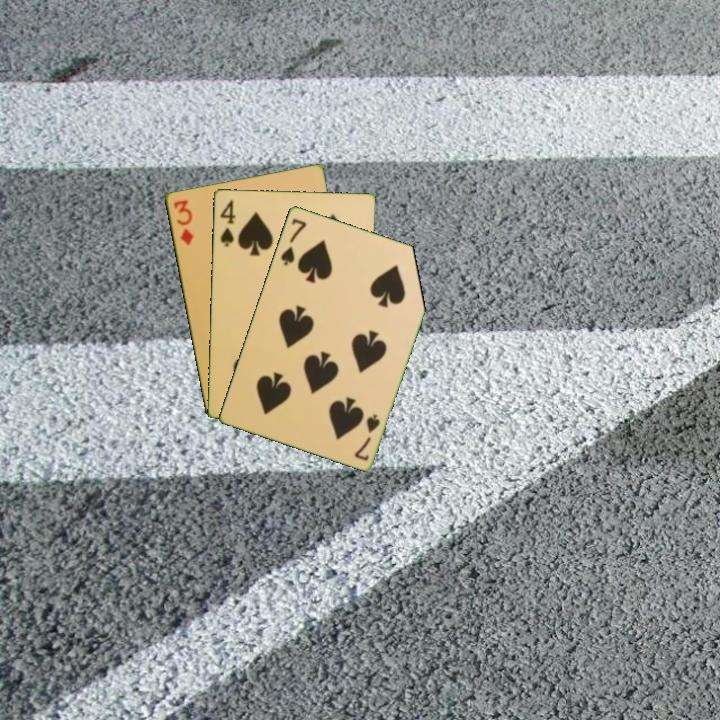3d: (170, 196, 196, 248)
4s: (216, 195, 238, 249)
7s: (277, 215, 309, 268), (351, 410, 383, 463)
